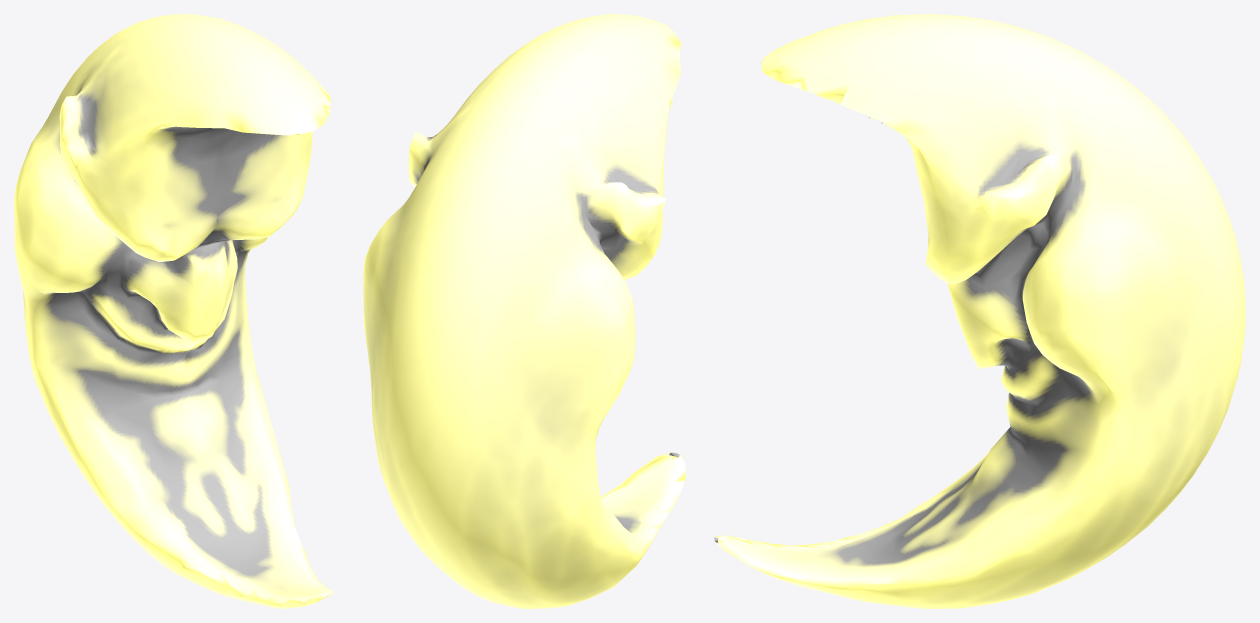
Rendered from moon.fbx.
3 renders of one model, left to right at view 1: azimuth 30°, elevation 25°; view 2: azimuth 150°, elevation 25°; view 3: azimuth 270°, elevation 25°, orthographic. The views are drawn at different scales.
Visible parts, largest first — view 1: moon; view 2: moon; view 3: moon.
Part boxes in pixels (x1=…): moon: x1=14, y1=14, x2=334, y2=608; moon: x1=363, y1=14, x2=685, y2=608; moon: x1=714, y1=14, x2=1245, y2=608.
Bounding box in the file's own units: 801 × 1622 × 1350.
